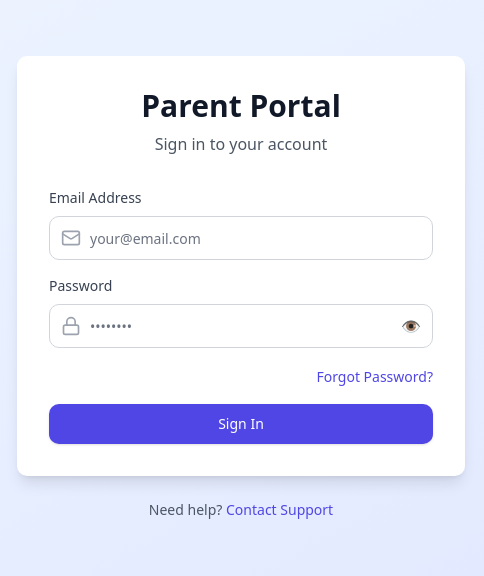
Test: ParentLoginPage › Form Validation › should show error when email is empty
Click the button "Sign In". click: (241, 424)
box: [49,404,433,444]
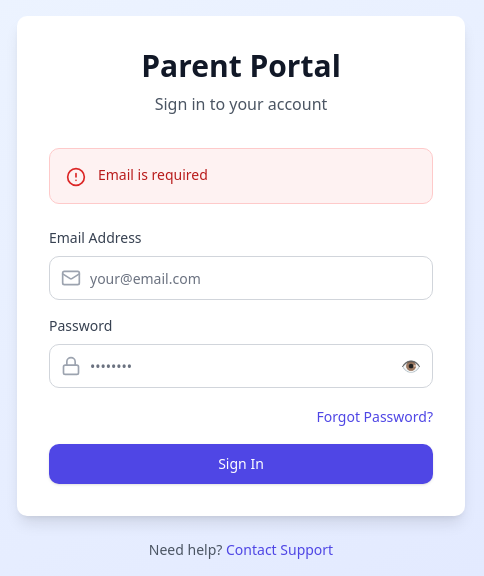
Expected: the text "Email is required" is shown, [98,165,208,187]
